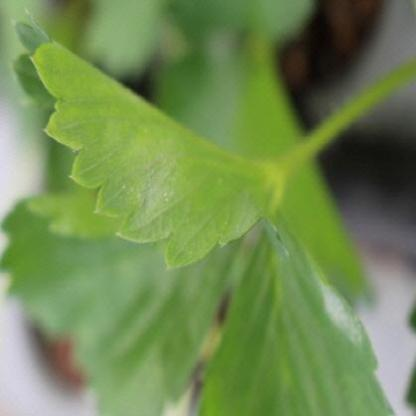Strawberry_Powdery_Mildew_Leaf: (11, 10, 288, 272), (192, 210, 398, 416)
